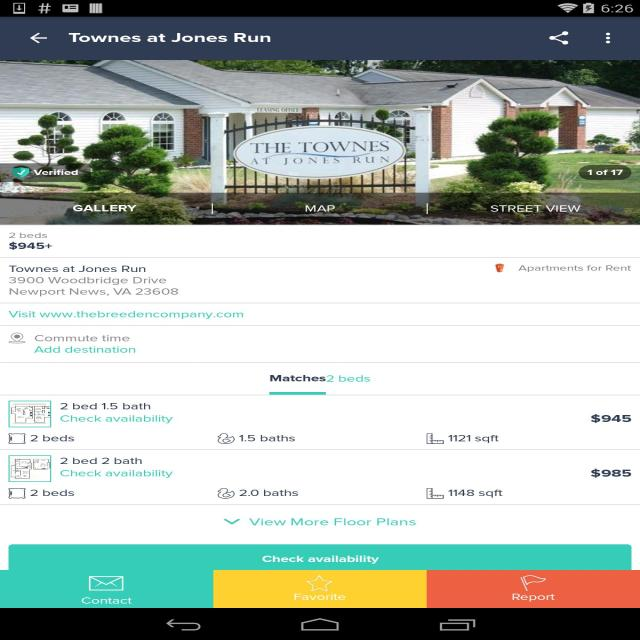button: (9, 545, 632, 569), (426, 569, 640, 608), (213, 568, 425, 606), (0, 568, 211, 606), (547, 29, 575, 49), (26, 29, 54, 46), (598, 27, 617, 50)
heading: (66, 32, 275, 47)
image: (2, 59, 640, 223)
link: (9, 306, 248, 321)
text: (5, 485, 520, 502), (5, 431, 508, 446), (10, 262, 179, 298), (1, 330, 151, 360), (58, 456, 174, 480), (60, 402, 178, 424), (258, 371, 379, 390), (2, 231, 60, 252), (588, 466, 639, 481), (590, 411, 636, 426)
